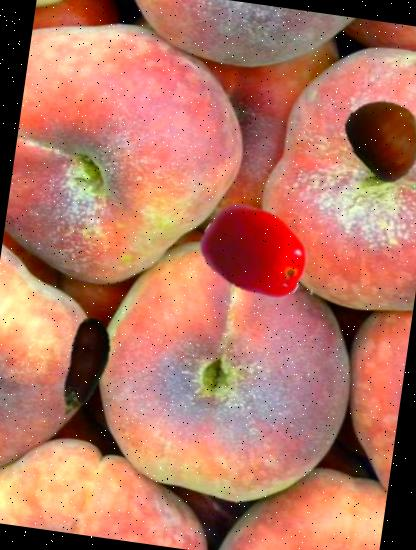Eggplant: (30, 310, 145, 424)
Nut: (339, 90, 416, 185)
Tomato: (194, 190, 318, 314)
